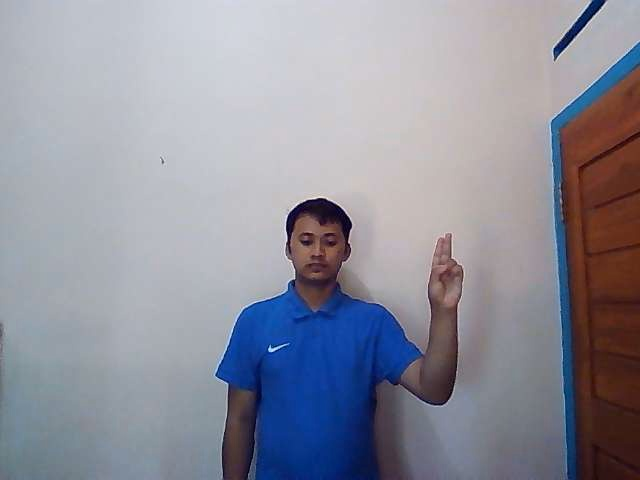U: (428, 231, 464, 308)
